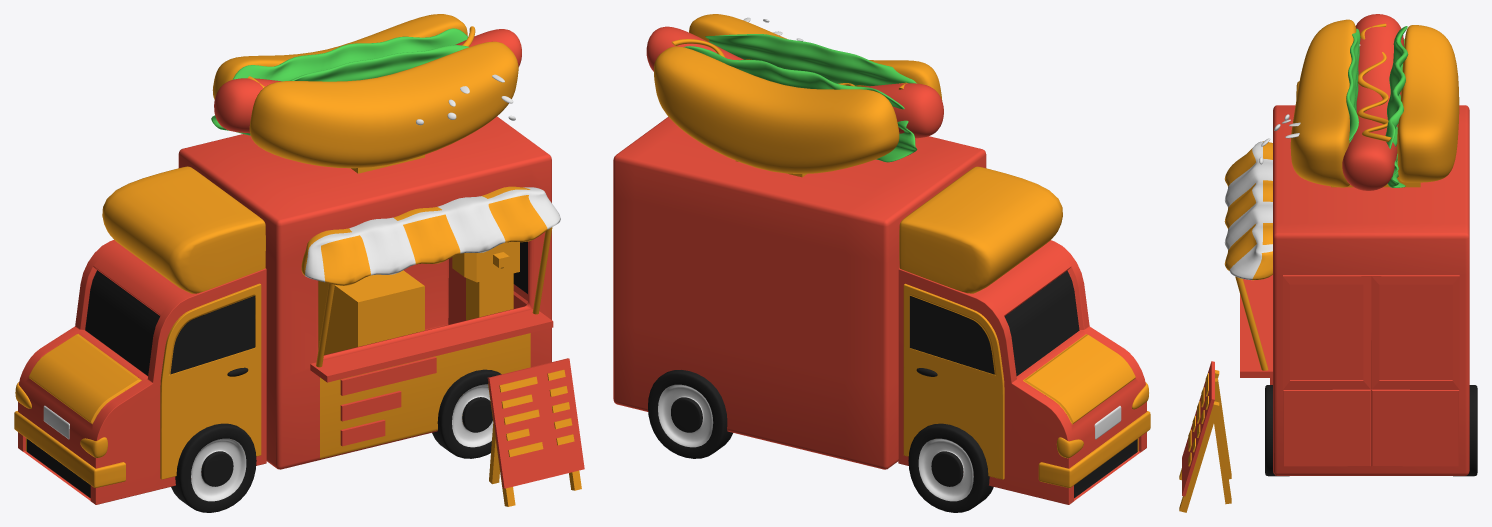
File: -food-truck-3d-animated-icon-62397595823.glb
The picture shows the model from 3 angles, left to right: view 1: azimuth 30°, elevation 25°; view 2: azimuth 150°, elevation 25°; view 3: azimuth 270°, elevation 25°; orthographic projection. The views are drawn at different scales.
Parts seen in each view (by area): view 1: Cube.001, Cube.005, Cube.041, Cube.012, Cube.007, Cube.011, Cube.002, Cube.049, Cube.043, Plane.001, Cube, Cube.040 (+10 smaller); view 2: Cube.001, Cube.005, Cube.041, Cube.012, Cube.007, Cube.002, Plane.001, Cube.040, Cube.006, Cube.008; view 3: Cube.010, Cube.001, Cube.041, Cube.011, Cube.040, Cube, Plane.001, Cube.015, Cube.002, Cube.049, NurbsPath, Cylinder.
Part boxes in pixels (x1,y1,x2,y2): Cube.001: [178, 116, 551, 469]; Cube.005: [18, 240, 266, 504]; Cube.041: [212, 14, 518, 168]; Cube.012: [102, 166, 265, 293]; Cube.007: [160, 283, 261, 479]; Cube.011: [301, 186, 560, 285]; Cube.002: [171, 369, 501, 512]; Cube.049: [487, 358, 584, 488]; Cube.043: [318, 270, 424, 355]; Plane.001: [211, 28, 469, 135]; Cube: [310, 309, 553, 382]; Cube.040: [214, 29, 521, 133]; Cube.001: [613, 116, 986, 469]; Cube.005: [898, 240, 1146, 504]; Cube.041: [654, 14, 942, 173]; Cube.012: [899, 166, 1062, 293]; Cube.007: [903, 283, 1004, 479]; Cube.002: [648, 370, 993, 512]; Plane.001: [683, 34, 917, 162]; Cube.040: [646, 26, 943, 138]; Cube.006: [1038, 411, 1150, 487]; Cube.008: [1056, 382, 1148, 458]; Cube.010: [1283, 275, 1459, 466]; Cube.001: [1273, 105, 1469, 475]; Cube.041: [1290, 19, 1459, 187]; Cube.011: [1224, 141, 1272, 280]; Cube.040: [1342, 14, 1403, 190]; Cube: [1240, 275, 1272, 377]; Plane.001: [1346, 26, 1408, 187]; Cube.015: [1179, 370, 1231, 512]; Cube.002: [1265, 385, 1477, 476]; Cube.049: [1182, 361, 1214, 496]; NurbsPath: [1357, 23, 1391, 141]; Cylinder: [1235, 276, 1268, 370].
Size of the model in its own units: 6.89 by 5.68 by 3.97.
